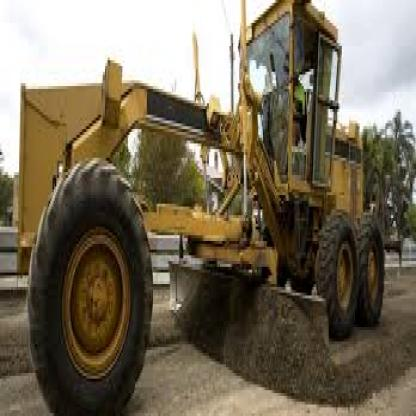bull_dozer/loader/grader: (13, 0, 398, 413)
